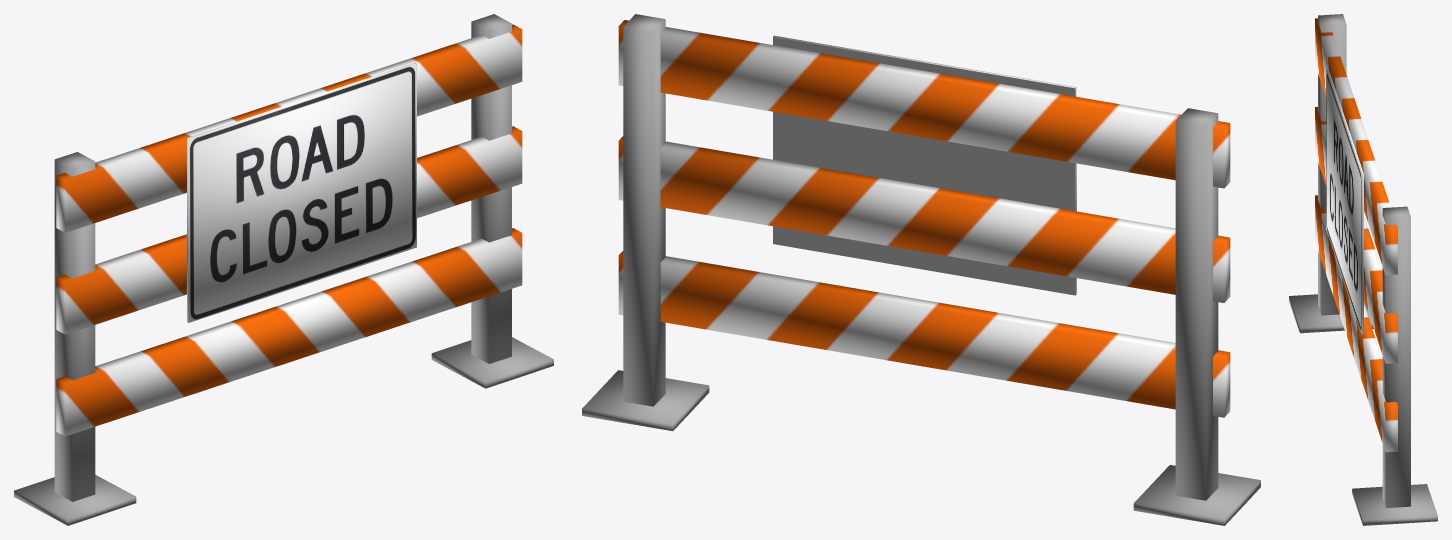
Rendered from road_close2.glb.
The picture shows the model from 3 angles, left to right: view 1: azimuth 30°, elevation 25°; view 2: azimuth 150°, elevation 25°; view 3: azimuth 270°, elevation 25°; orthographic projection. The views are drawn at different scales.
Visible parts, largest first — view 1: s1.jpg__, s2.jpg__; view 2: s1.jpg__, s2.jpg__; view 3: s1.jpg__, s2.jpg__.
Part boxes in pixels (x1,y1,x2,y2): s1.jpg__: (14, 14, 553, 525); s2.jpg__: (187, 62, 416, 322); s1.jpg__: (582, 14, 1260, 525); s2.jpg__: (773, 35, 1076, 294); s1.jpg__: (1289, 14, 1437, 525); s2.jpg__: (1326, 69, 1363, 334).
Size of the model in its own units: 2.14 by 1.29 by 0.5874.
Materials: 2 (2 with a texture image).
